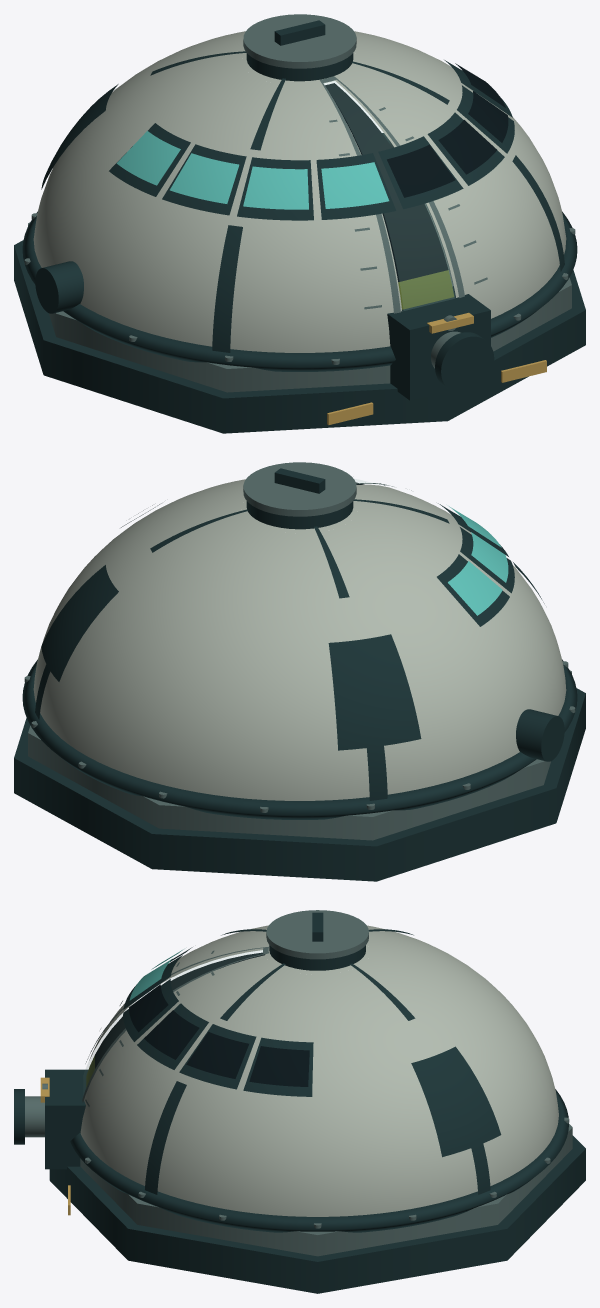
The model's file is yushi037_container_d0_lod0.glb.
3 views of the same model, one above another, from view 1: azimuth 30°, elevation 25°; view 2: azimuth 150°, elevation 25°; view 3: azimuth 270°, elevation 25° (orthographic). The views are drawn at different scales.
Visible parts, largest first — view 1: YUSHI_BODY, YUSHI_GLASS, VALVE_HANDLE; view 2: YUSHI_BODY; view 3: YUSHI_BODY, YUSHI_GLASS.
Boxes of the visible parts, x1,y1,x2,y2 form: YUSHI_BODY: [14, 14, 585, 433]; YUSHI_GLASS: [324, 81, 454, 310]; VALVE_HANDLE: [427, 312, 473, 333]; YUSHI_BODY: [14, 462, 585, 881]; YUSHI_BODY: [14, 910, 585, 1293]; YUSHI_GLASS: [84, 950, 262, 1091].
Size of the model in its own units: 3.66 by 1.94 by 3.9.
